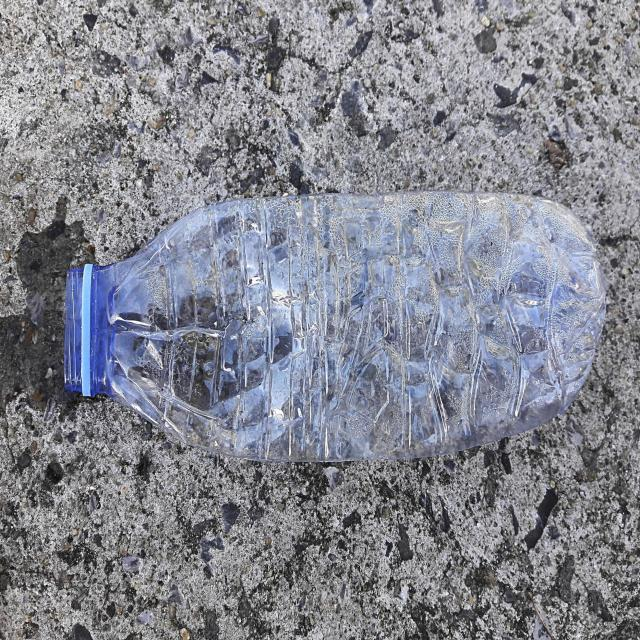plastic_bottle: (41, 150, 620, 490)
